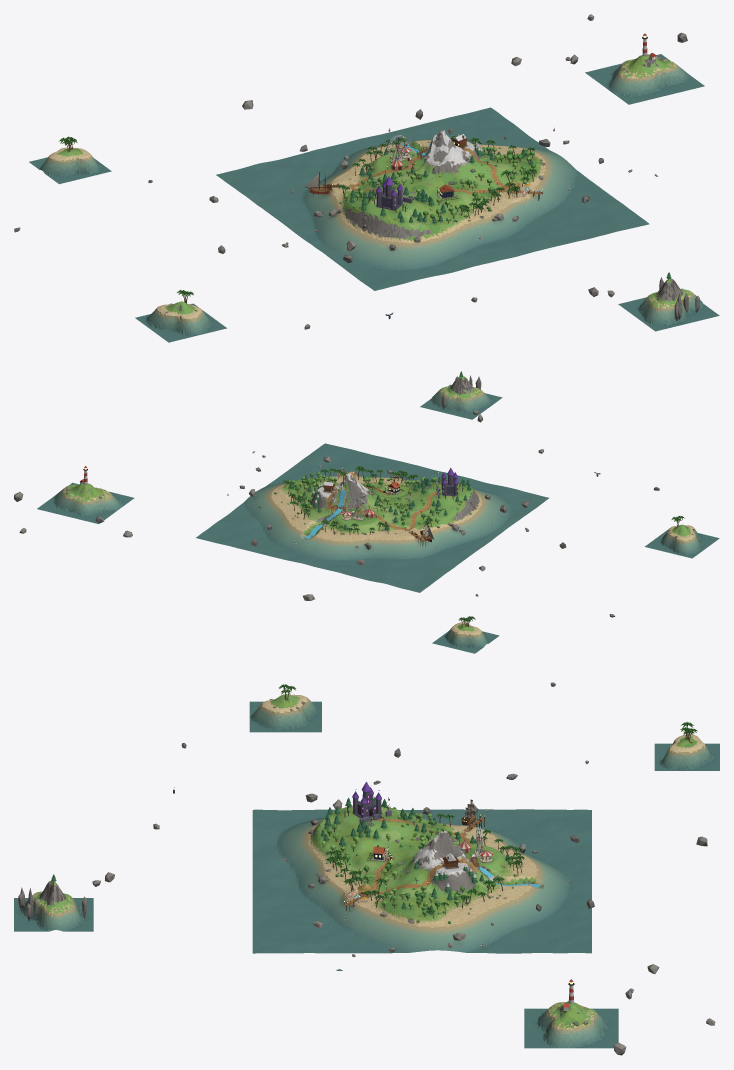
Rendered from island.glb.
3 views of the same model, one above another, from view 1: azimuth 30°, elevation 25°; view 2: azimuth 150°, elevation 25°; view 3: azimuth 270°, elevation 25° (orthographic). The views are drawn at different scales.
Visible parts, largest first — view 1: Island_Base_mesh, Far_Islands_mesh, LOC_6_castle_mesh; view 2: Island_Base_mesh, Far_Islands_mesh, LOC_6_castle_mesh; view 3: Island_Base_mesh, Far_Islands_mesh, LOC_6_castle_mesh.
Boxes of the visible parts, left/top/right/bottom form: Island_Base_mesh: left=216, top=107, right=649, bottom=290; Far_Islands_mesh: left=14, top=14, right=719, bottom=342; LOC_6_castle_mesh: left=368, top=176, right=415, bottom=212; Island_Base_mesh: left=196, top=443, right=548, bottom=592; Far_Islands_mesh: left=14, top=371, right=719, bottom=653; LOC_6_castle_mesh: left=428, top=467, right=463, bottom=499; Island_Base_mesh: left=252, top=797, right=591, bottom=953; Far_Islands_mesh: left=14, top=682, right=719, bottom=1055; LOC_6_castle_mesh: left=344, top=781, right=393, bottom=827.
Size of the model in its own units: 420 by 35.12 by 341.
